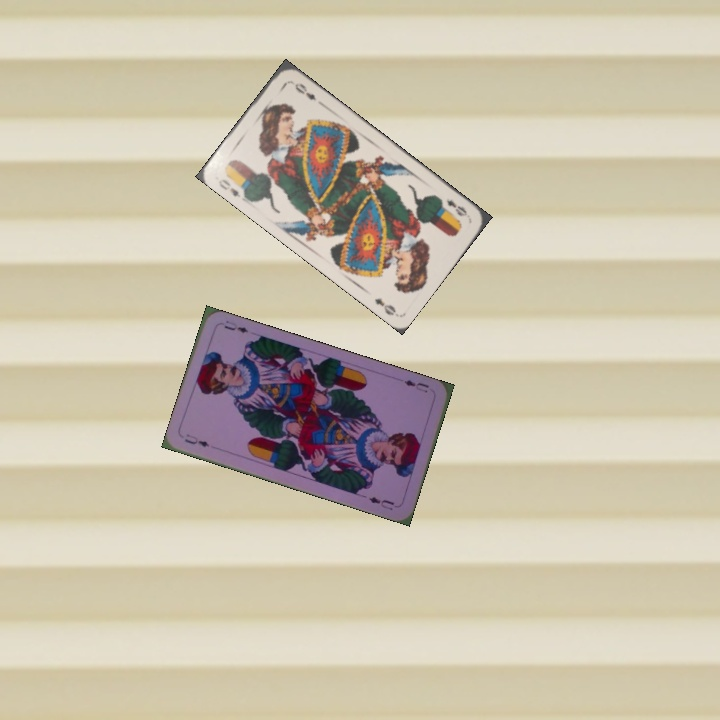EO: (435, 194, 472, 220), (214, 175, 243, 200)
EU: (180, 430, 212, 450), (400, 376, 431, 396)
